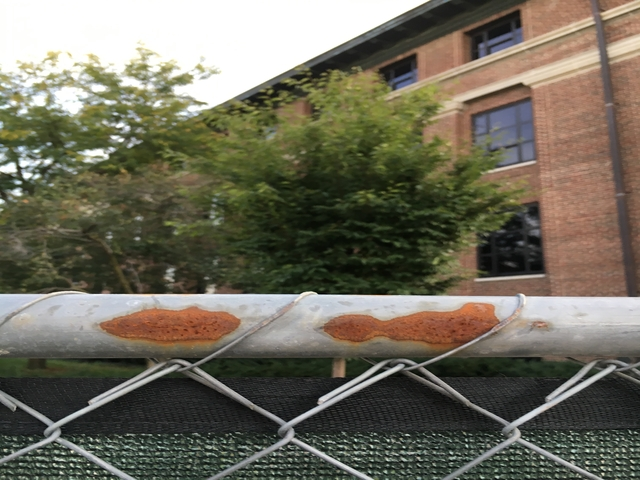Moderate: (93, 298, 245, 348), (320, 306, 504, 345)
